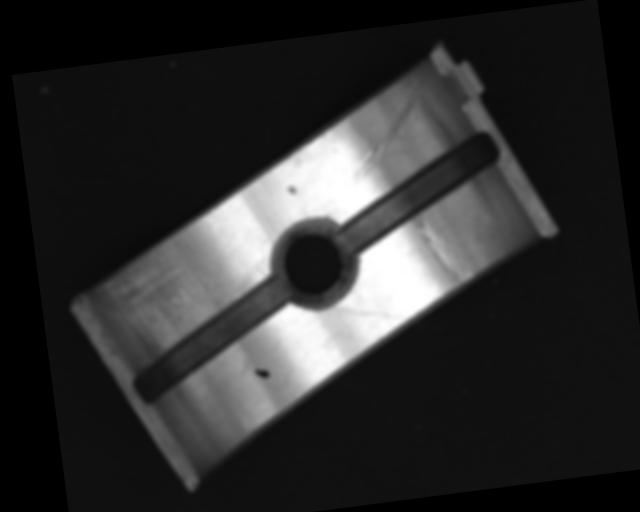blot: (253, 366, 271, 379)
bruise: (287, 184, 298, 196)
gap: (120, 279, 299, 405), (329, 131, 512, 253)
hole: (267, 216, 361, 314)
nick: (340, 75, 430, 180), (414, 209, 475, 289), (329, 296, 413, 329)
scratch: (86, 217, 224, 356)
